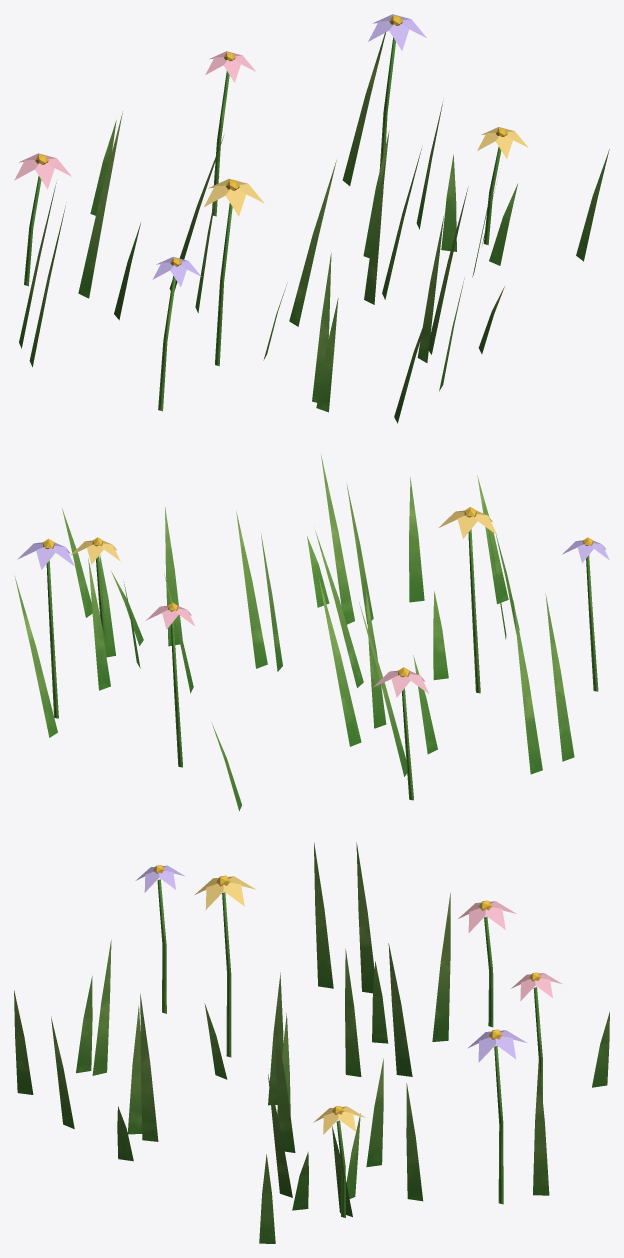
The model's file is meadow_patch_sky_b.glb.
3 views of the same model, one above another, from view 1: azimuth 30°, elevation 25°; view 2: azimuth 150°, elevation 25°; view 3: azimuth 270°, elevation 25° (orthographic). The views are drawn at different scales.
Parts seen in each view (by area): view 1: meadow_patch_sky_b; view 2: meadow_patch_sky_b; view 3: meadow_patch_sky_b.
Part boxes in pixels (x1,y1,x2,y2): meadow_patch_sky_b: (14, 14, 609, 423); meadow_patch_sky_b: (14, 453, 609, 811); meadow_patch_sky_b: (14, 842, 609, 1243).
Size of the model in its own units: 2.34 by 0.7443 by 2.16.
Materials: 2 (1 with a texture image).
